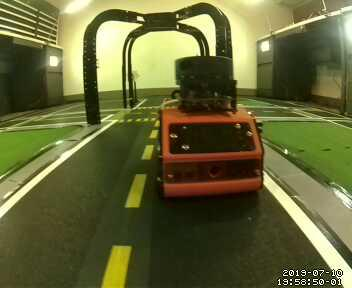pheeno: (156, 56, 268, 201)
